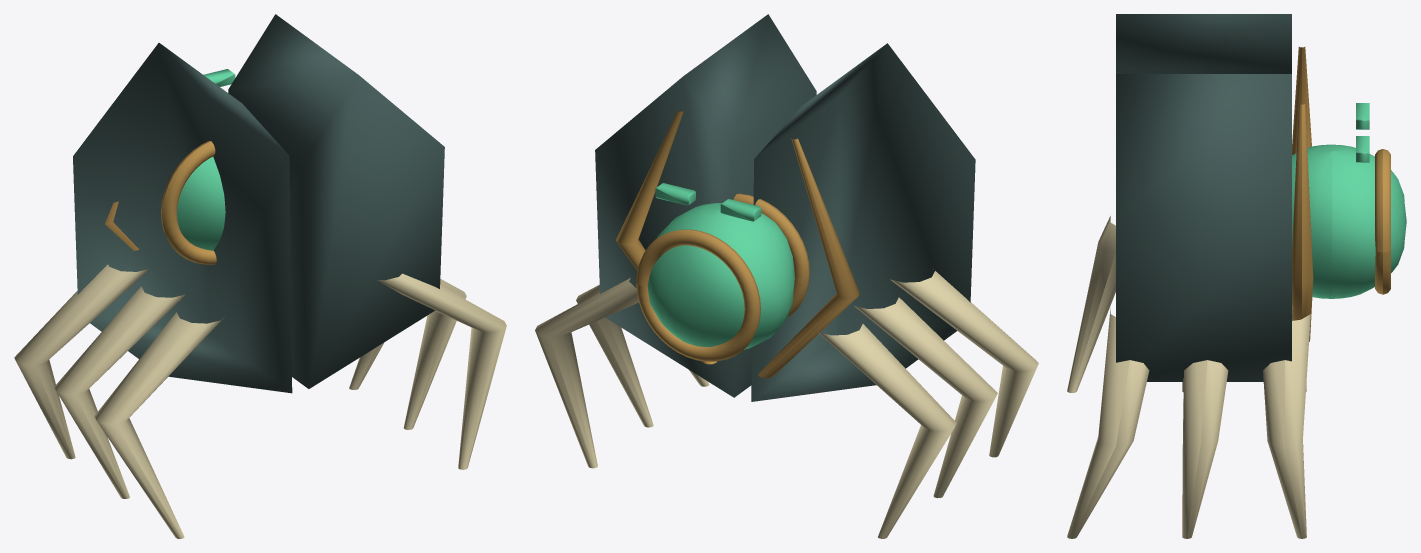
The model's file is creature_0_0.glb.
The picture shows the model from 3 angles, left to right: view 1: azimuth 30°, elevation 25°; view 2: azimuth 150°, elevation 25°; view 3: azimuth 270°, elevation 25°; orthographic projection. The views are drawn at different scales.
Parts seen in each view (by area): view 1: BriarShell (×2), HookLeg (×5), GlassCore, GiltOrbRim; view 2: BriarShell (×2), HookLeg (×5), GlassCore, GiltOrbRim (×2), ShellRidge (×2), EyeSlit (×2); view 3: BriarShell (×2), HookLeg (×4), GlassCore, ShellRidge (×2), GiltOrbRim.
Part boxes in pixels (<box>): BriarShell (×2): <box>73,14,444,393</box>; HookLeg (×5): <box>14,264,506,538</box>; GlassCore: <box>177,157,225,250</box>; GiltOrbRim: <box>161,141,216,264</box>; BriarShell (×2): <box>595,14,975,401</box>; HookLeg (×5): <box>535,269,1038,538</box>; GlassCore: <box>647,203,794,349</box>; GiltOrbRim (×2): <box>636,193,809,361</box>; ShellRidge (×2): <box>615,111,859,378</box>; EyeSlit (×2): <box>655,183,761,221</box>; BriarShell (×2): <box>1116,14,1291,381</box>; HookLeg (×4): <box>1067,216,1310,538</box>; GlassCore: <box>1292,144,1406,298</box>; ShellRidge (×2): <box>1292,47,1313,341</box>; GiltOrbRim: <box>1375,149,1390,294</box>.
Size of the model in its own units: 1.47 by 1.37 by 1.
